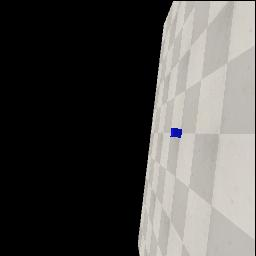box: (170, 128, 182, 138)
